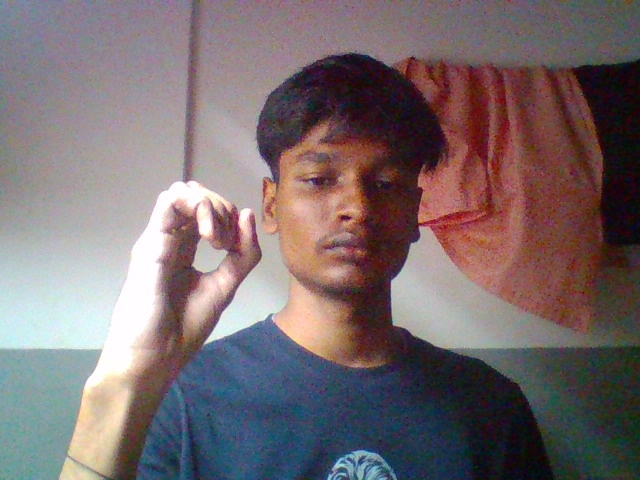O: (102, 162, 310, 432)
